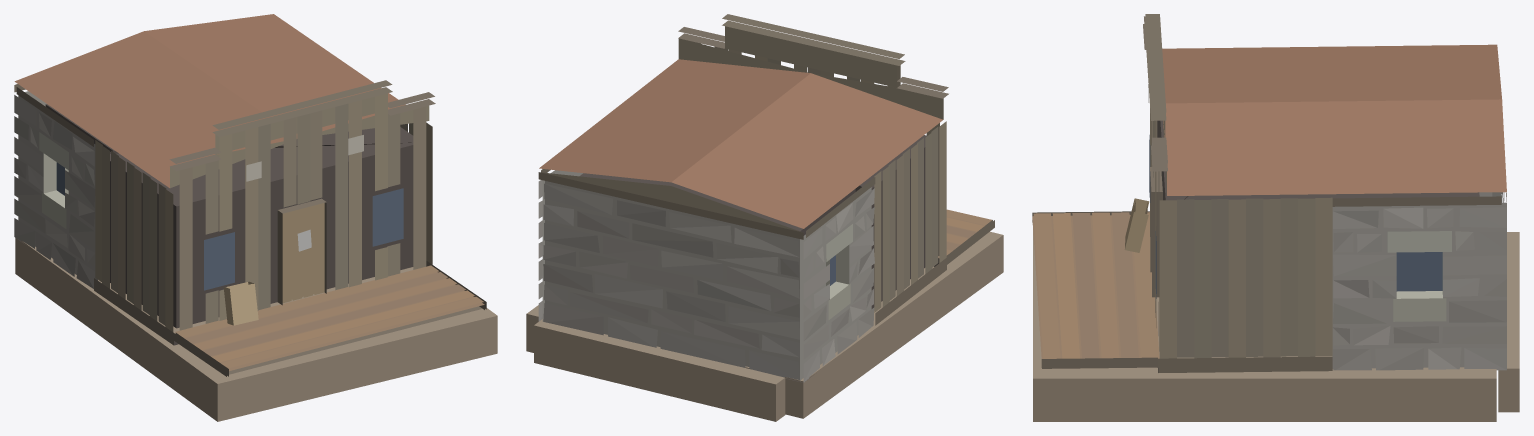
Rendered from house_4.lod.glb.
The picture shows the model from 3 angles, left to right: view 1: azimuth 30°, elevation 25°; view 2: azimuth 150°, elevation 25°; view 3: azimuth 270°, elevation 25°; orthographic projection. The views are drawn at different scales.
Parts seen in each view (by area): view 1: house_4; view 2: house_4; view 3: house_4.
Part boxes in pixels (x1,y1,x2,y2): house_4: [14, 14, 497, 421]; house_4: [526, 14, 1003, 421]; house_4: [1032, 14, 1519, 421].
Size of the model in its own units: 7.98 by 6.62 by 10.48.
